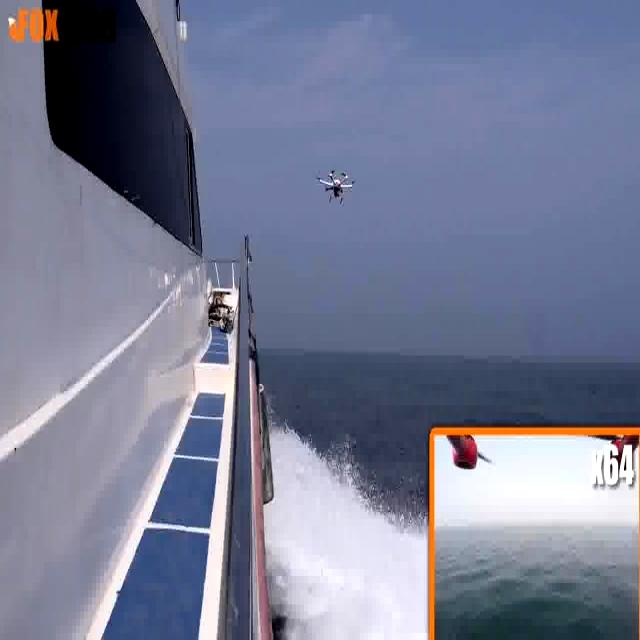drone: (312, 162, 362, 212)
